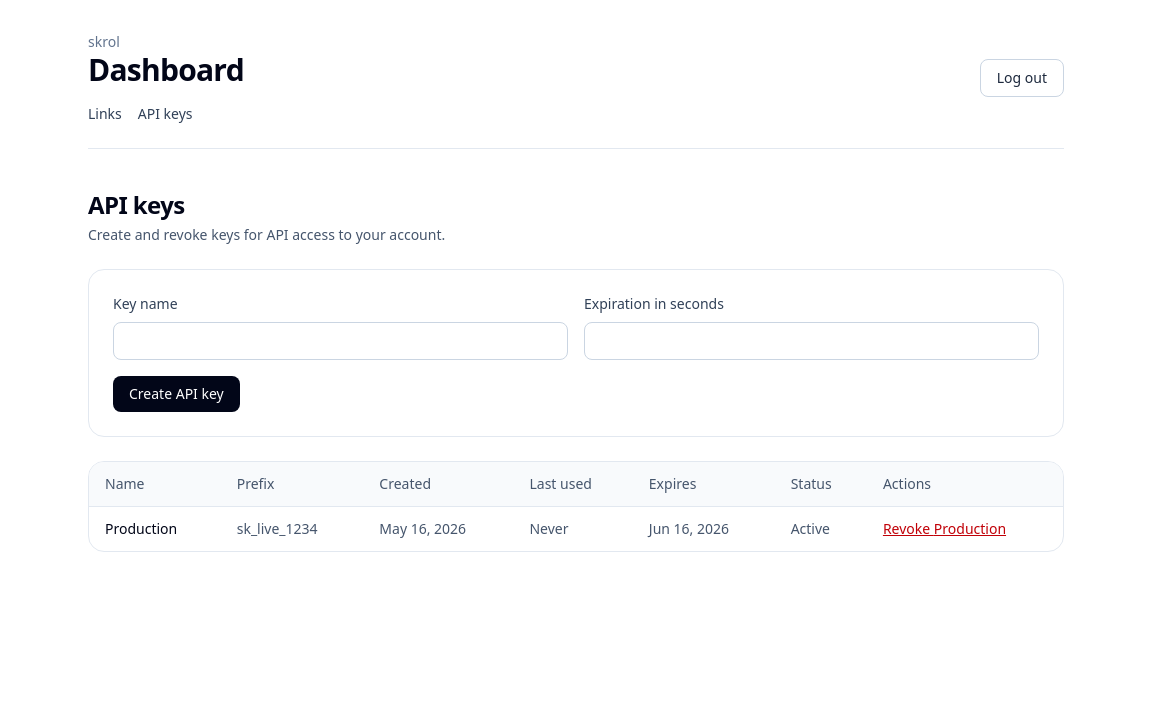
Test: dashboard api keys page › shows raw key warning panel after create
The width and height of the screenshot is (1152, 719).
Type "CLI" into the field labelled "Key name".
click(340, 341); type("CLI")  # box [113,322,568,360]
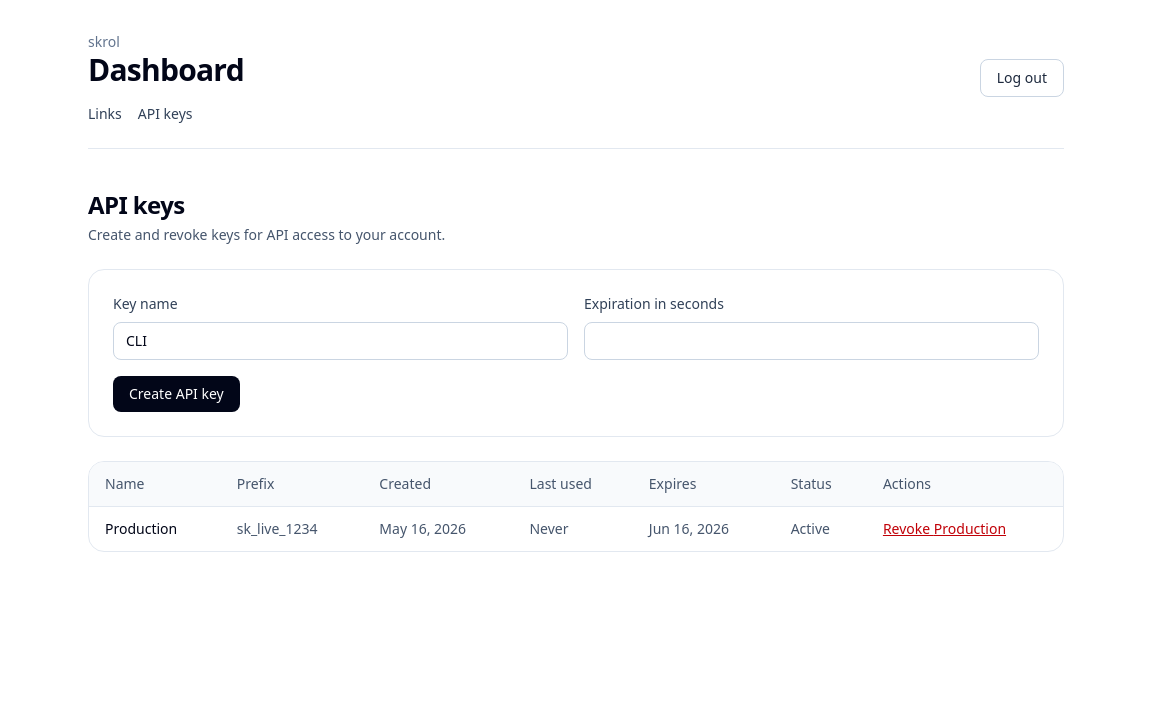
Click the button "Create API key".
click(176, 394)  # box [113,376,240,412]
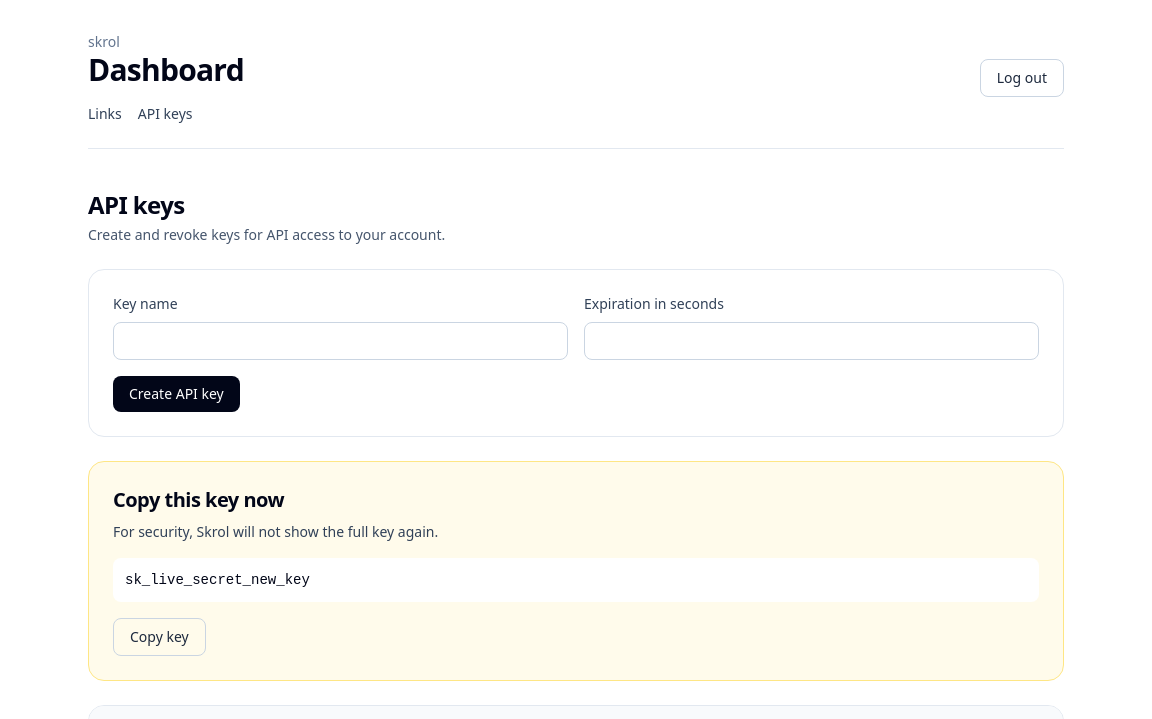
Now the heading "Copy this key now" is shown, box [113,486,284,513]
Now the text "For security, Skrol will not show the full key again." is shown, box [113,522,438,541]
Now the text "sk_live_secret_new_key" is shown, box [113,558,1039,602]
